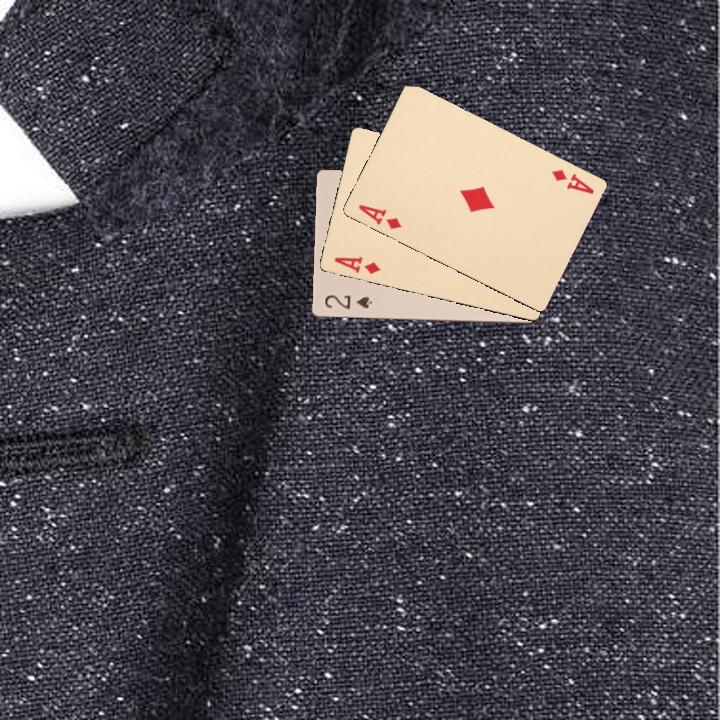2s: (321, 291, 373, 312)
Ad: (354, 200, 403, 232), (548, 165, 597, 196), (330, 252, 382, 277)
